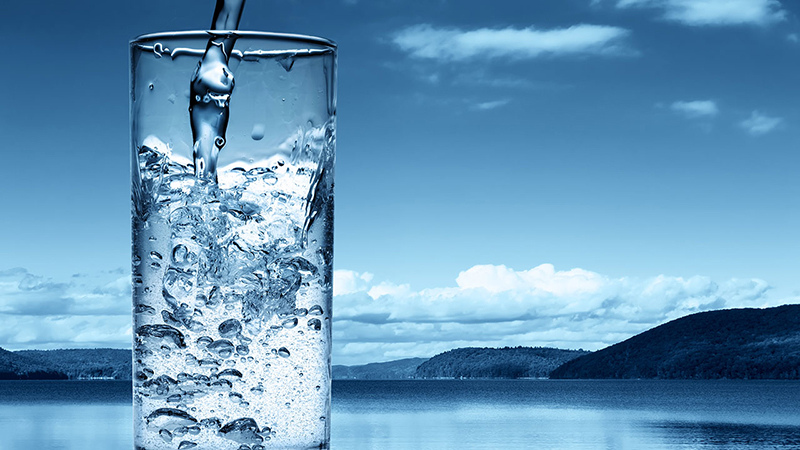slice of bread: (119, 24, 359, 443)
